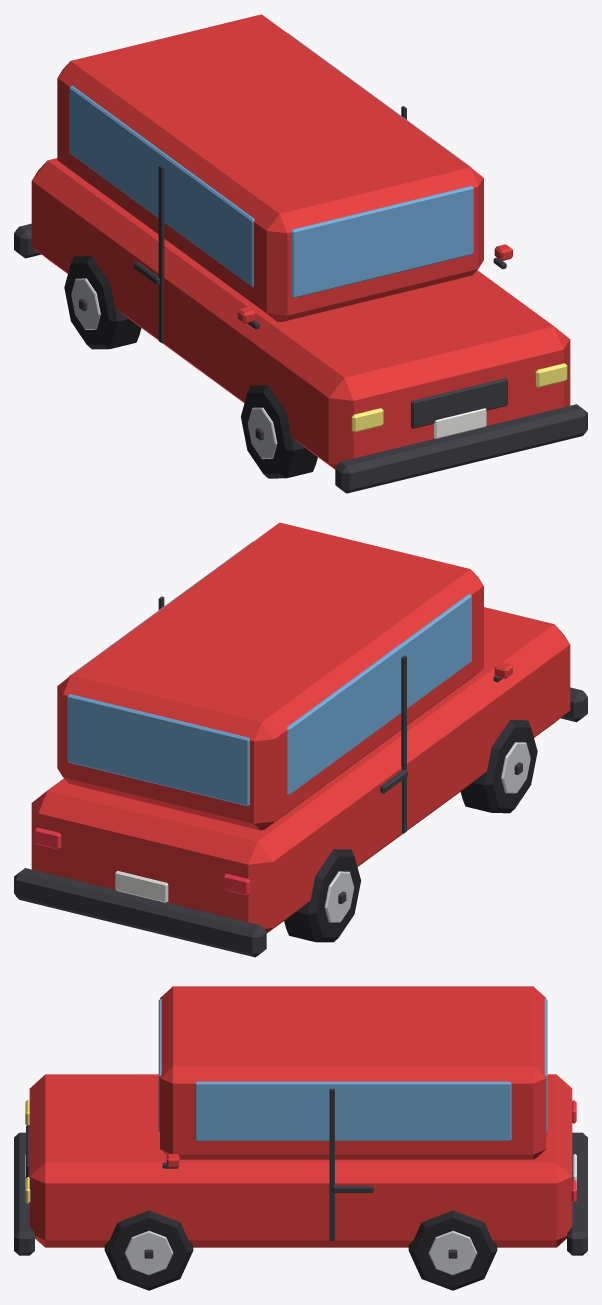
File: RedMinivan.fbx
3 views of the same model, one above another, from view 1: azimuth 30°, elevation 25°; view 2: azimuth 150°, elevation 25°; view 3: azimuth 270°, elevation 25° (orthographic). The views are drawn at different scales.
Parts seen in each view (by area): view 1: RedMinivan, RedMinivan_WheelBR, RedMinivan_WheelFR; view 2: RedMinivan, RedMinivan_WheelBR, RedMinivan_WheelFR; view 3: RedMinivan, RedMinivan_WheelBL, RedMinivan_WheelFL.
Part boxes in pixels (x1,y1,x2,y2): RedMinivan: (14,14,587,493); RedMinivan_WheelBR: (64,256,141,349); RedMinivan_WheelFR: (241,385,317,478); RedMinivan: (14,522,587,957); RedMinivan_WheelBR: (284,849,361,942); RedMinivan_WheelFR: (460,720,537,813); RedMinivan: (14,986,587,1255); RedMinivan_WheelBL: (408,1210,497,1290); RedMinivan_WheelFL: (104,1210,193,1290).
Size of the model in its own units: 5.15 by 4.52 by 11.
Materials: 1 (1 with a texture image).
